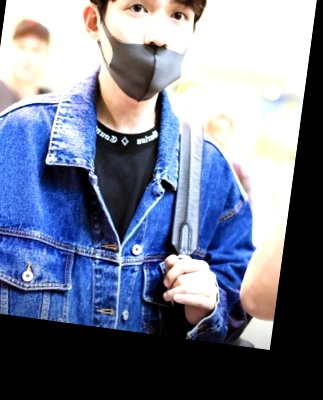mask_weared_incorrect: (101, 1, 198, 104)
